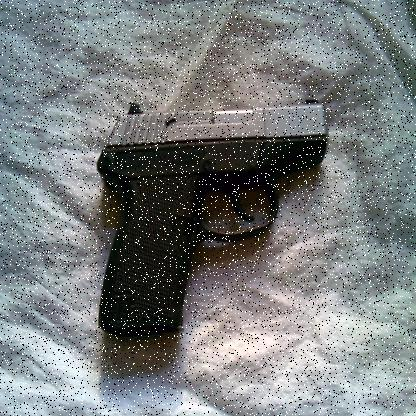pistol: (97, 103, 328, 336)
